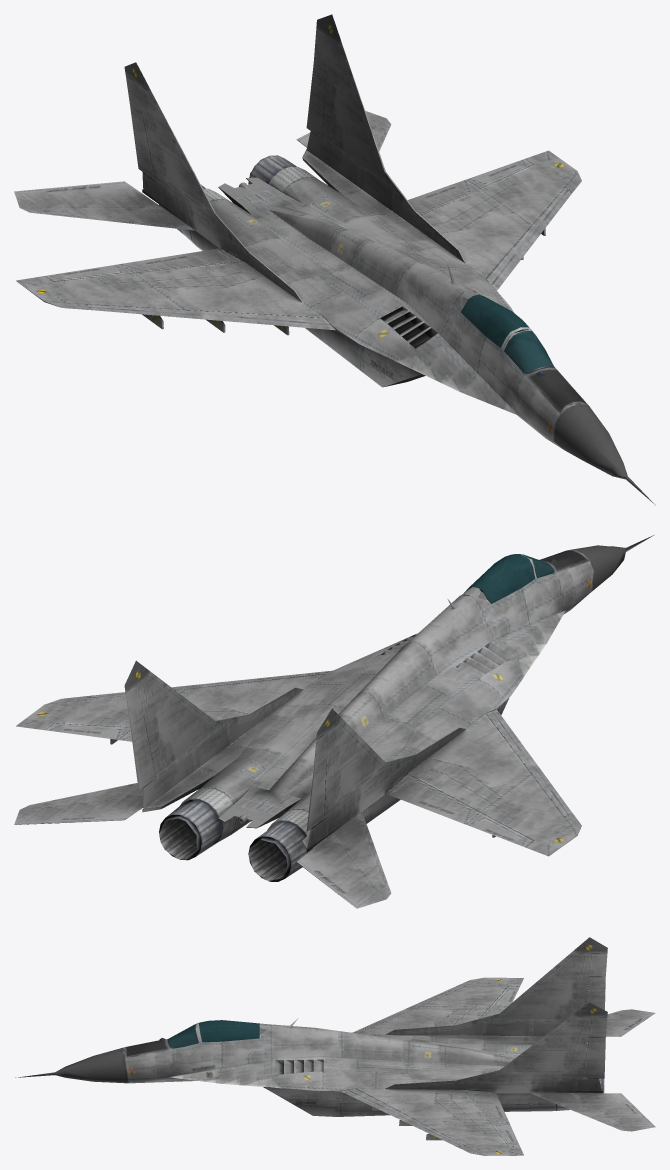
Rendered from mig_29-maximum-compressed.glb.
3 views of the same model, one above another, from view 1: azimuth 30°, elevation 25°; view 2: azimuth 150°, elevation 25°; view 3: azimuth 270°, elevation 25° (orthographic). The views are drawn at different scales.
Parts seen in each view (by area): view 1: MiG 29 body, glass.001, glass, MiG 29.002; view 2: MiG 29 body, glass.001, MiG 29.002; view 3: MiG 29 body, glass.001, glass, MiG 29.004.
Boxes of the visible parts, x1,y1,x2,y2 form: MiG 29 body: (14, 14, 655, 505); glass.001: (460, 294, 528, 347); glass: (504, 330, 553, 372); MiG 29.002: (218, 177, 285, 208); MiG 29 body: (14, 535, 653, 908); glass.001: (463, 554, 535, 603); MiG 29.002: (218, 797, 285, 828); MiG 29 body: (15, 937, 655, 1155); glass.001: (199, 1020, 259, 1042); glass: (168, 1024, 198, 1048); MiG 29.004: (197, 1023, 280, 1043).
Size of the model in its own units: 620 by 210 by 947.
2 materials, 2 textured.
